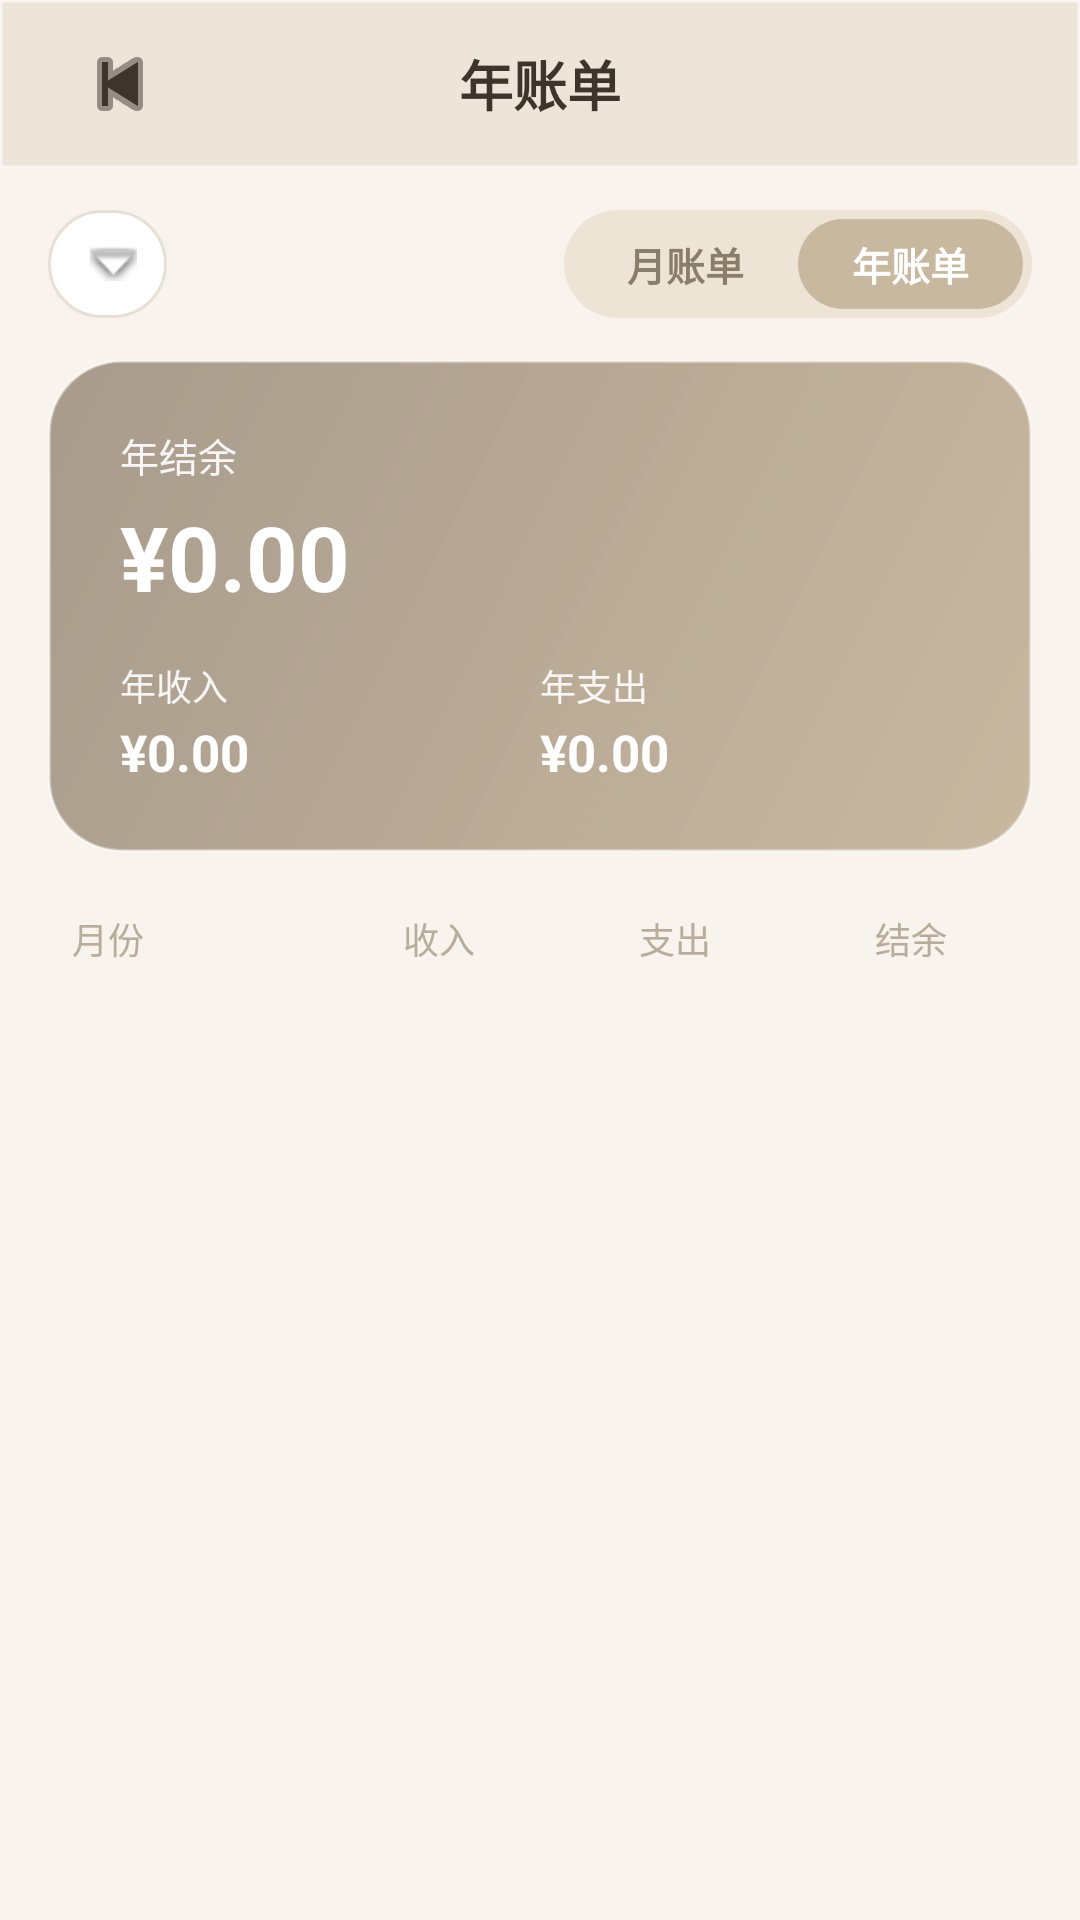

Icons on this 1080×1920 Android screen, each with the point to tap as (x,y):
previous: (120,84)
